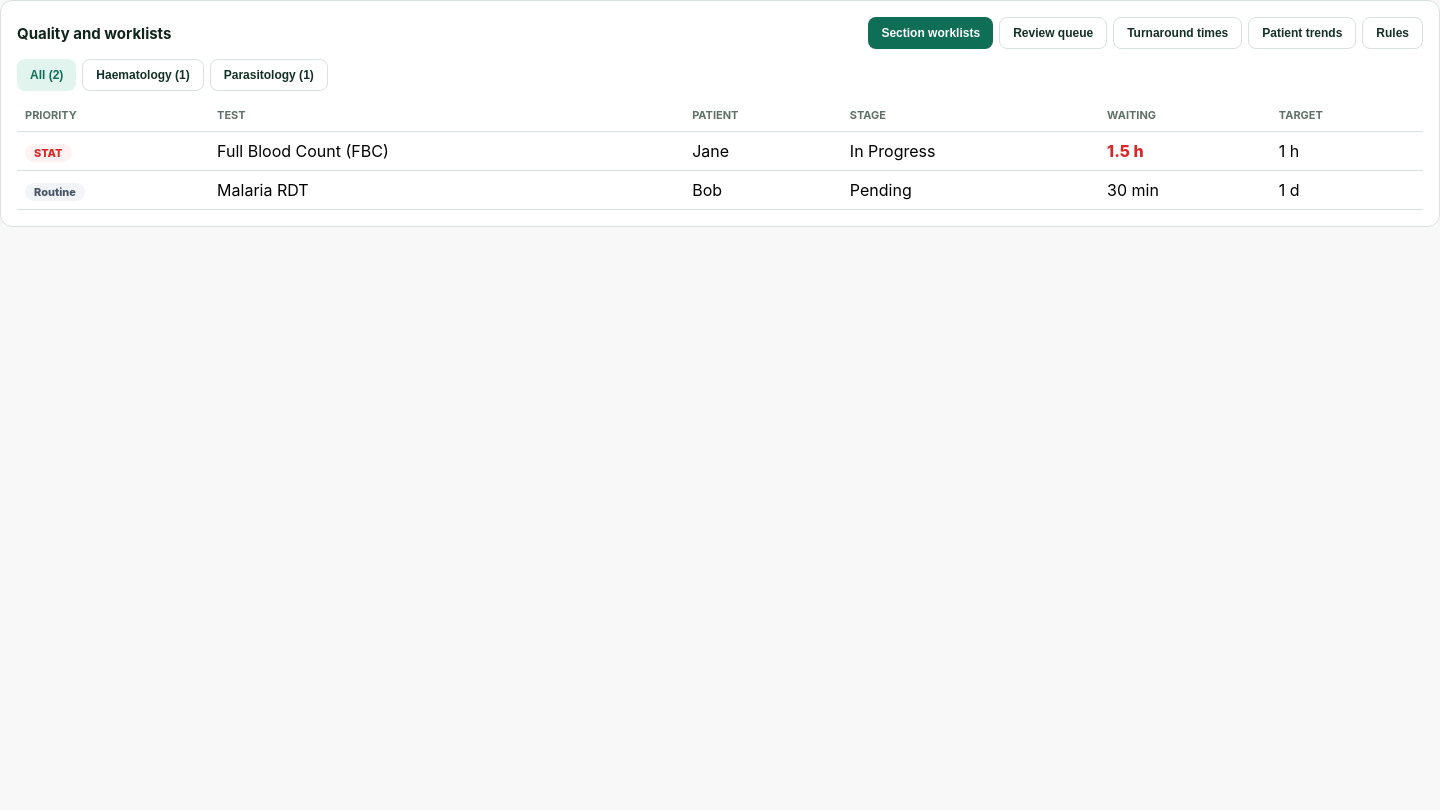
it: lab quality panel › shows section worklists with overdue STAT tests, and validates from the review queue
Later steps or results of the test are not shown.
Expected: the button "Haematology (1)" is shown, [82,59,204,91]
Click the tab "Review queue": x=1053, y=33 [999,17,1107,49]
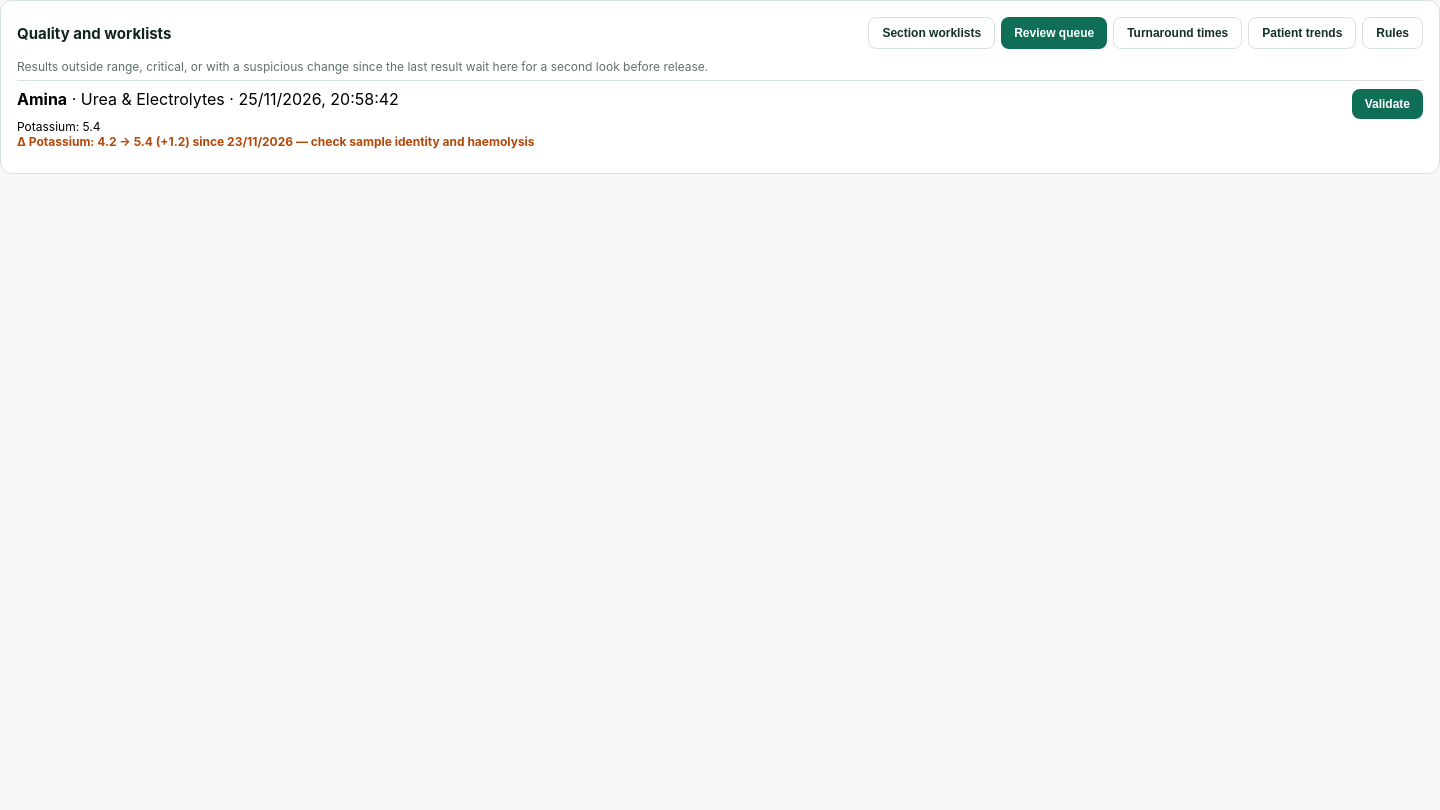
Now the text "Δ Potassium: 4.2 → 5.4" is shown, box [17,134,535,149]
